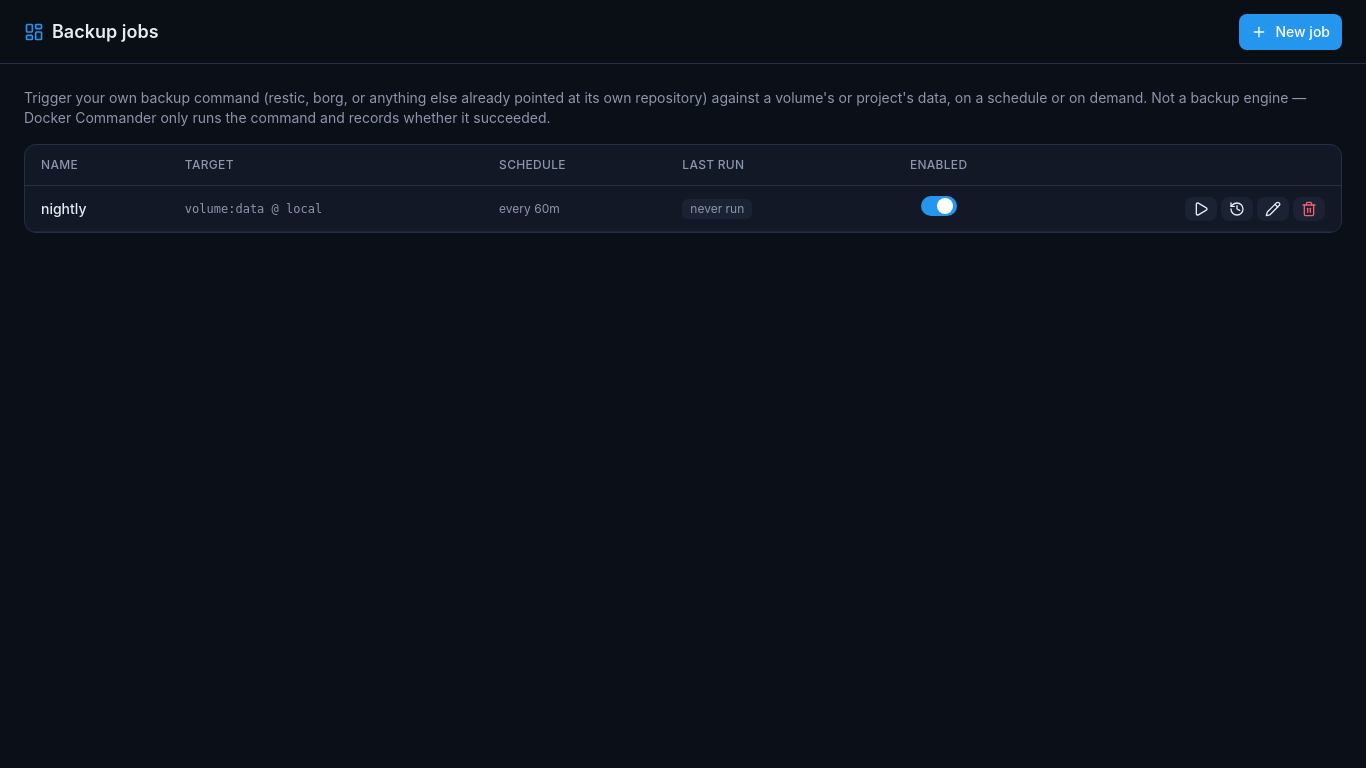
Test: BackupJobs — run history and logs › a Run-now whose command exits non-zero (the request itself succeeds) still opens the log
The image size is (1366, 768).
Click the button named "Run now" at [1201, 208], box x1=1185 y1=196 x2=1217 y2=220
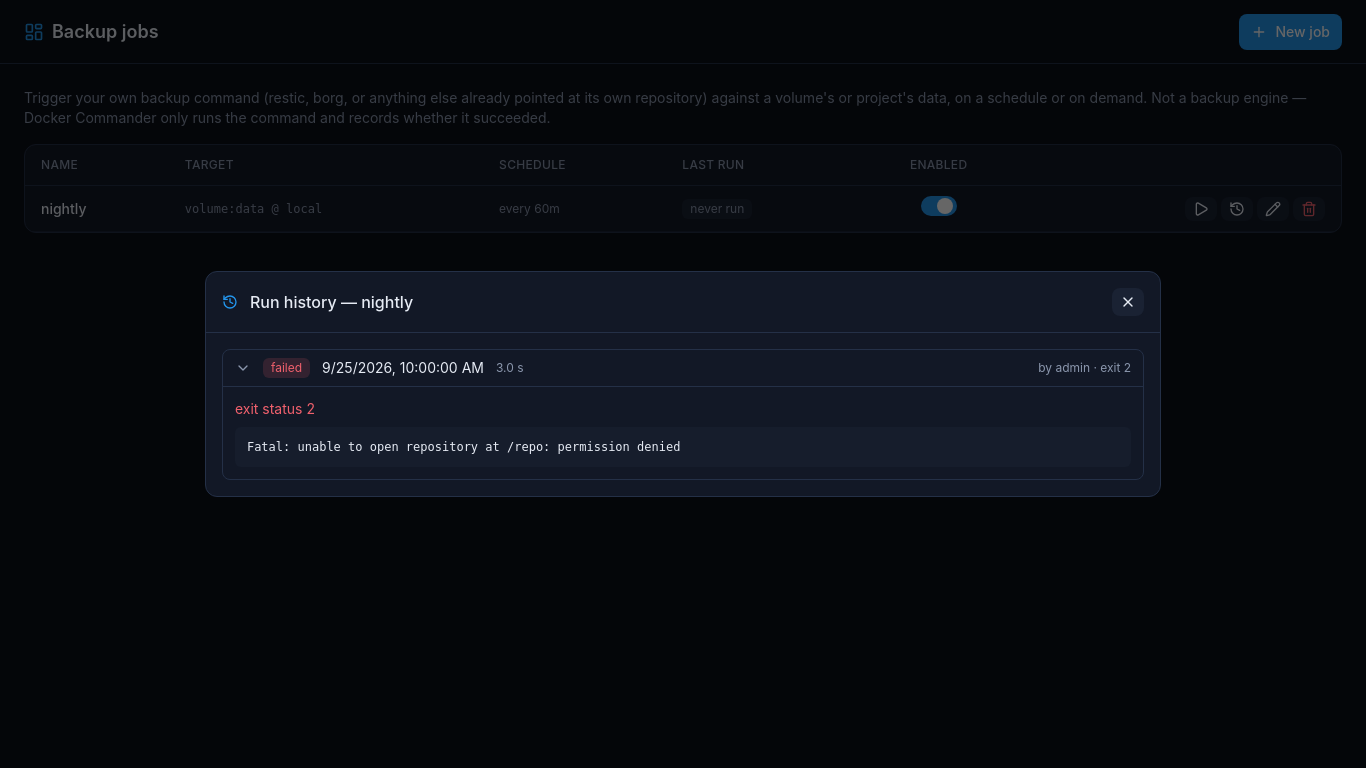
Expected: the text "Run history — nightly" is shown, x1=250 y1=290 x2=413 y2=314
Expected: the text "permission denied" is shown, x1=247 y1=440 x2=680 y2=454
